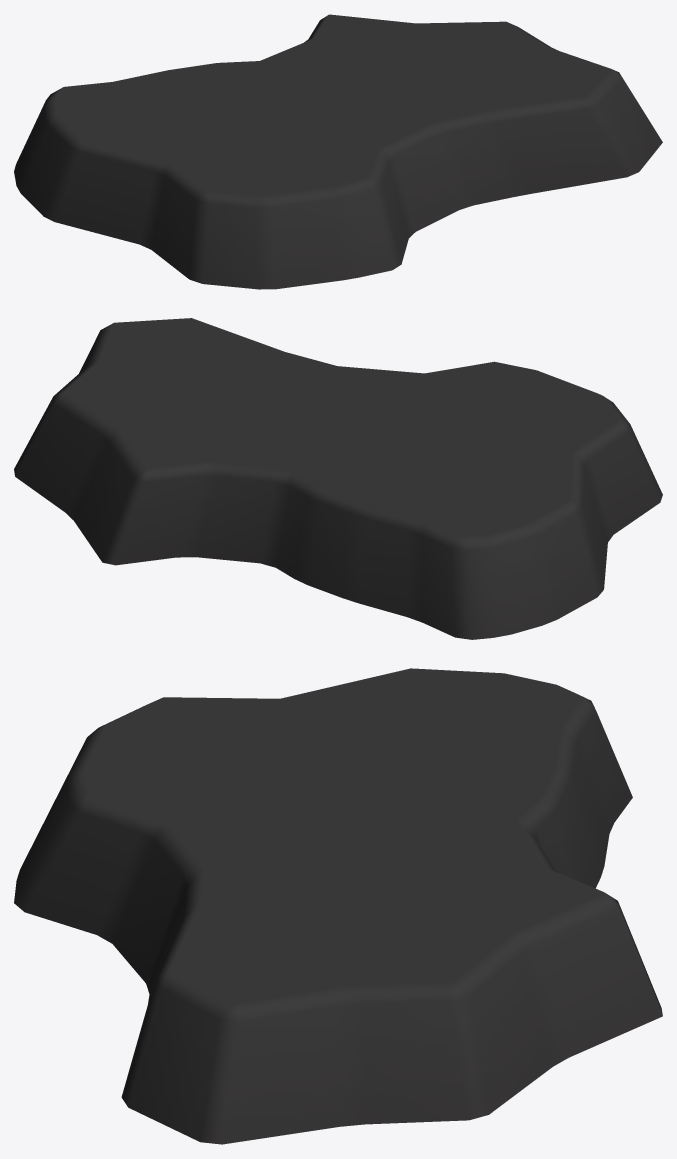
The model's file is PlatformSmall_001.glb.
3 views of the same model, one above another, from view 1: azimuth 30°, elevation 25°; view 2: azimuth 150°, elevation 25°; view 3: azimuth 270°, elevation 25° (orthographic). The views are drawn at different scales.
Visible parts, largest first — view 1: PlatformSmall_001; view 2: PlatformSmall_001; view 3: PlatformSmall_001.
Part boxes in pixels (x1,y1,x2,y2): PlatformSmall_001: (14,14,662,289); PlatformSmall_001: (14,318,662,639); PlatformSmall_001: (14,668,662,1144).
Bounding box in the file's own units: 35.46 × 4.66 × 24.99.
1 material, 1 textured.
